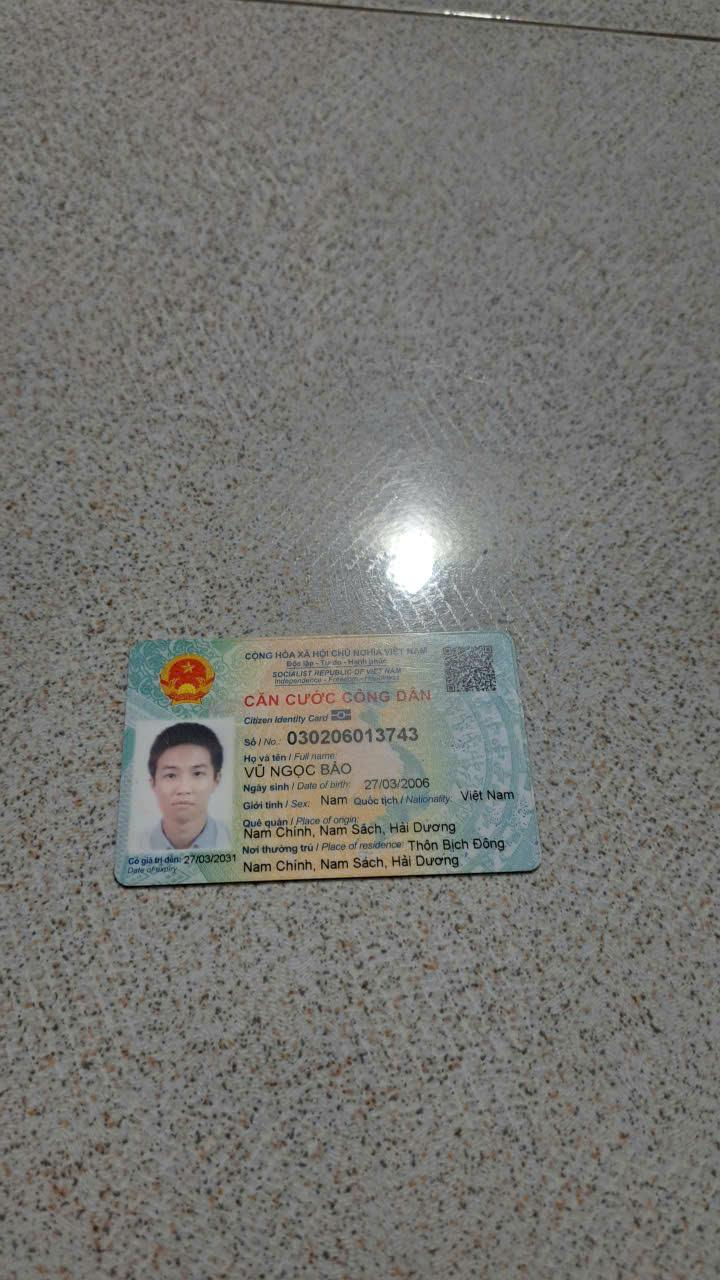cccd: (106, 621, 552, 900)
